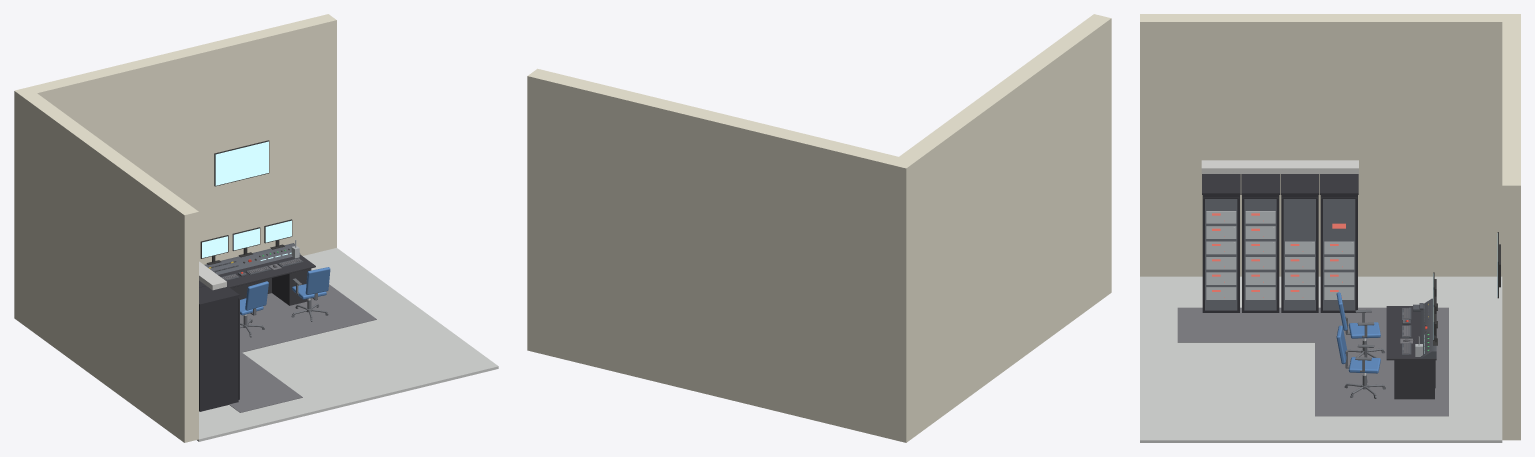
The model's file is control_room.glb.
3 views of the same model, side by side, from view 1: azimuth 30°, elevation 25°; view 2: azimuth 150°, elevation 25°; view 3: azimuth 270°, elevation 25° (orthographic). The views are drawn at different scales.
Visible parts, largest first — view 1: Walls, Floor, CarpetMat, Cabinet_1_RTP3000_RPS_RCS, Console_Desk, ui_WallDisplay_Console, Console_HardwiredPanel, Chair_1_Seat, Chair_2_Seat; view 2: Walls; view 3: Walls, Floor, CarpetMat, Cabinet_2_GlassDoor, Cabinet_1_GlassDoor, Cabinet_3_GlassDoor, Cabinet_4_GlassDoor, Cabinet_3_Historian_DataDiode, Cabinet_4_UPS_30min, Console_Desk, Cabinet_2_Mirion_NI_Channels, Cabinet_1_RTP3000_RPS_RCS (+14 smaller).
Boxes of the visible parts, box(x1,y1,x2,y2) form: Walls: box(14, 14, 336, 442); Floor: box(197, 248, 498, 441); CarpetMat: box(229, 284, 376, 412); Cabinet_1_RTP3000_RPS_RCS: box(199, 286, 239, 411); Console_Desk: box(218, 255, 315, 305); ui_WallDisplay_Console: box(215, 141, 268, 185); Console_HardwiredPanel: box(204, 243, 300, 274); Chair_1_Seat: box(292, 267, 330, 299); Chair_2_Seat: box(240, 281, 268, 315); Walls: box(527, 14, 1111, 442); Walls: box(1140, 14, 1520, 440); Floor: box(1140, 276, 1502, 442); CarpetMat: box(1177, 307, 1448, 416); Cabinet_2_GlassDoor: box(1244, 199, 1276, 309); Cabinet_1_GlassDoor: box(1205, 199, 1236, 309); Cabinet_3_GlassDoor: box(1284, 199, 1315, 309); Cabinet_4_GlassDoor: box(1323, 199, 1354, 309); Cabinet_3_Historian_DataDiode: box(1280, 174, 1319, 312); Cabinet_4_UPS_30min: box(1320, 174, 1358, 312); Console_Desk: box(1386, 306, 1436, 399); Cabinet_2_Mirion_NI_Channels: box(1241, 174, 1279, 312); Cabinet_1_RTP3000_RPS_RCS: box(1202, 174, 1240, 312).
Bounding box in the file's own units: 6.5 × 4.55 × 6.1.
